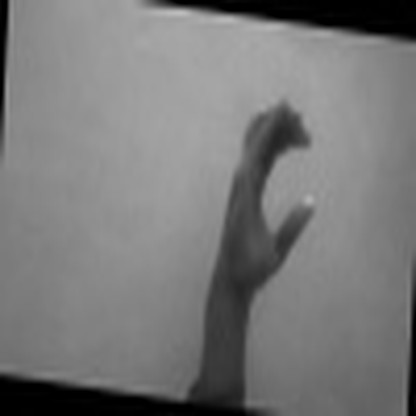c: (212, 99, 321, 295)
